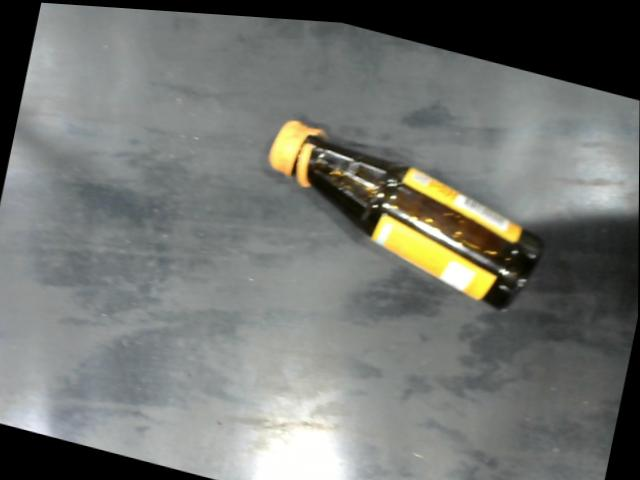glass: (266, 113, 546, 309)
